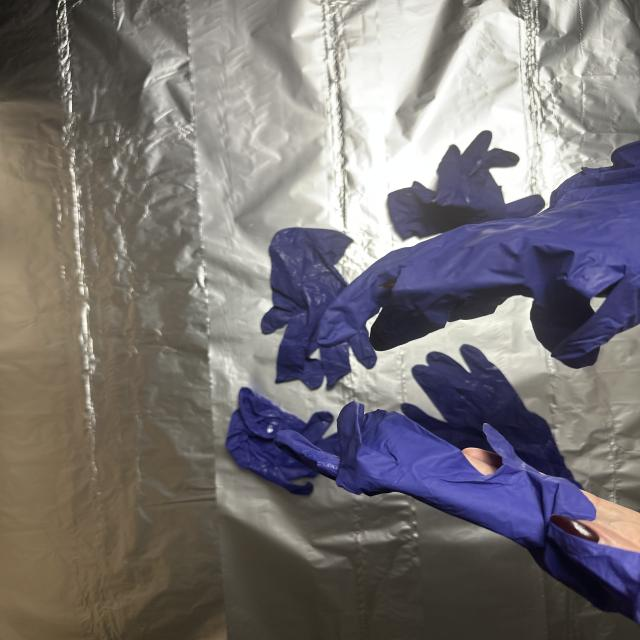glove_not_fitted: (269, 396, 640, 629), (309, 164, 638, 371)
